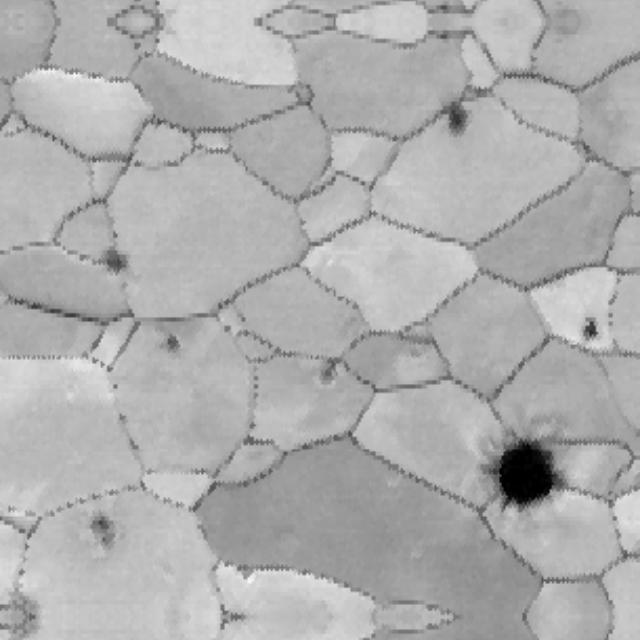good_void: (488, 432, 562, 521), (99, 243, 151, 285), (316, 348, 348, 397), (87, 510, 125, 549), (442, 101, 475, 145), (579, 314, 604, 345), (157, 332, 188, 355), (219, 322, 233, 337)
